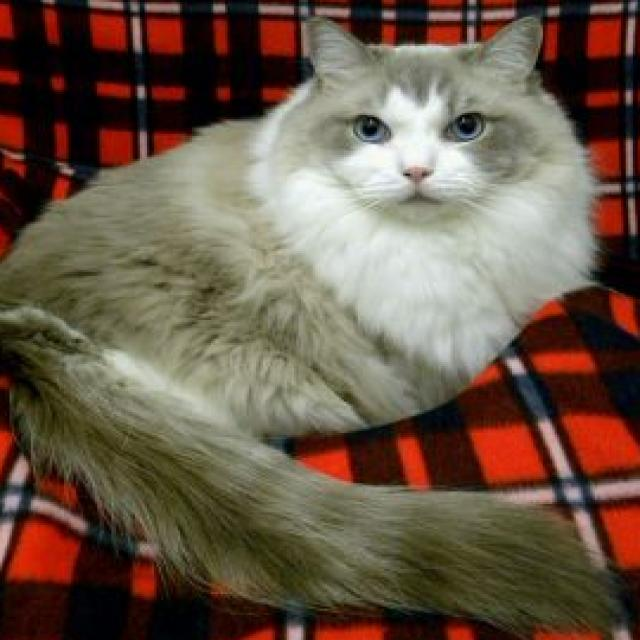Ragdoll: (0, 10, 628, 636)
